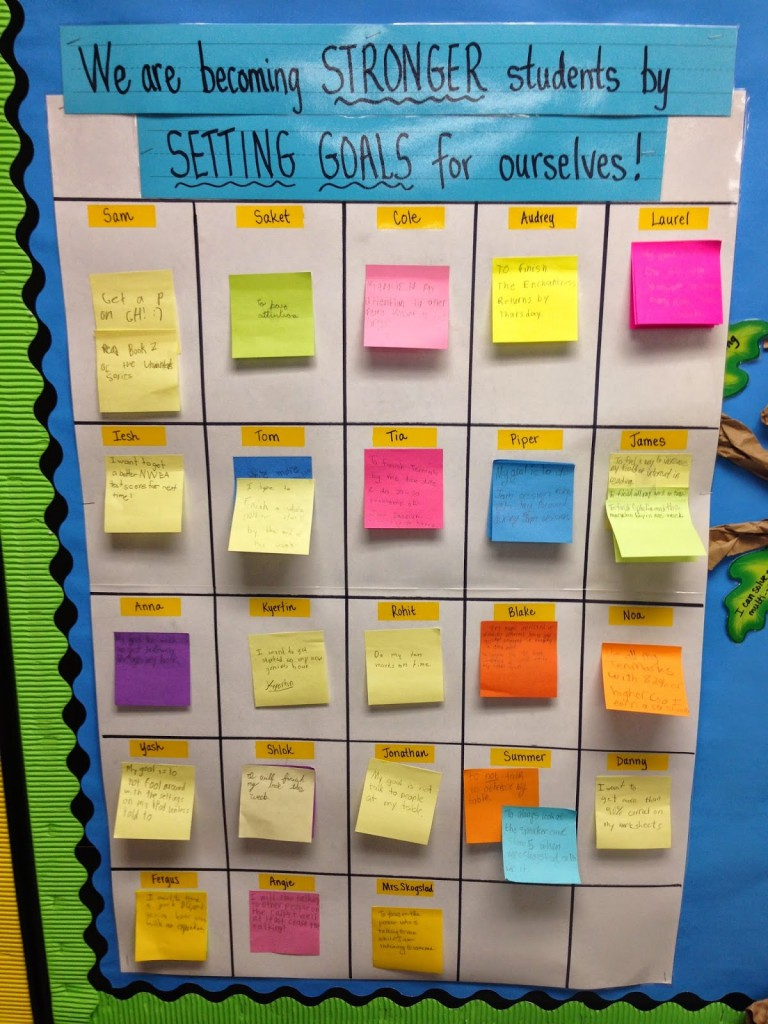stickynote: (353, 760, 443, 850), (491, 254, 580, 345), (363, 263, 452, 351), (631, 242, 724, 326), (229, 272, 317, 359), (487, 458, 575, 544), (227, 477, 315, 557), (96, 334, 185, 413), (600, 642, 693, 717), (499, 805, 582, 889), (478, 620, 559, 706), (245, 630, 333, 709), (236, 763, 319, 845), (113, 763, 196, 844), (364, 450, 446, 530), (363, 626, 446, 705), (90, 267, 178, 339), (105, 453, 184, 533), (111, 631, 191, 710), (595, 776, 673, 850), (132, 893, 210, 959), (371, 907, 446, 974), (249, 891, 323, 956)
